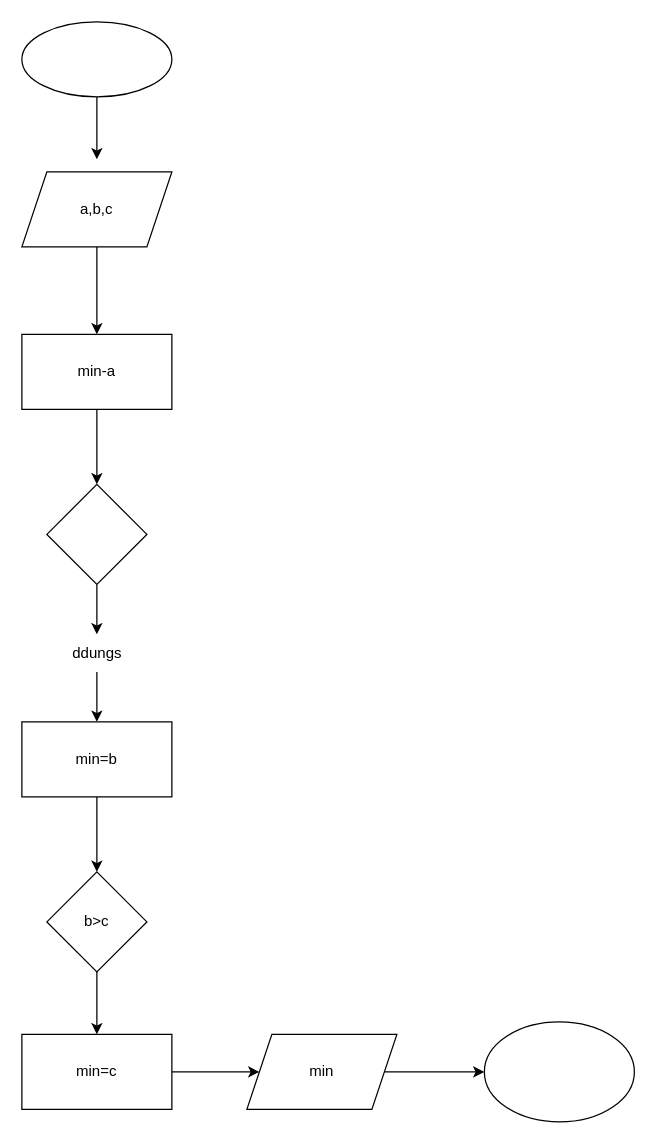
This 656x1144 diagram has some shape labels left out. Here are the shapes that lost their labels. From the top down, the box of each, then its label:
(21, 21, 172, 97): begin
(46, 483, 147, 584): a>b
(483, 1021, 634, 1122): end
